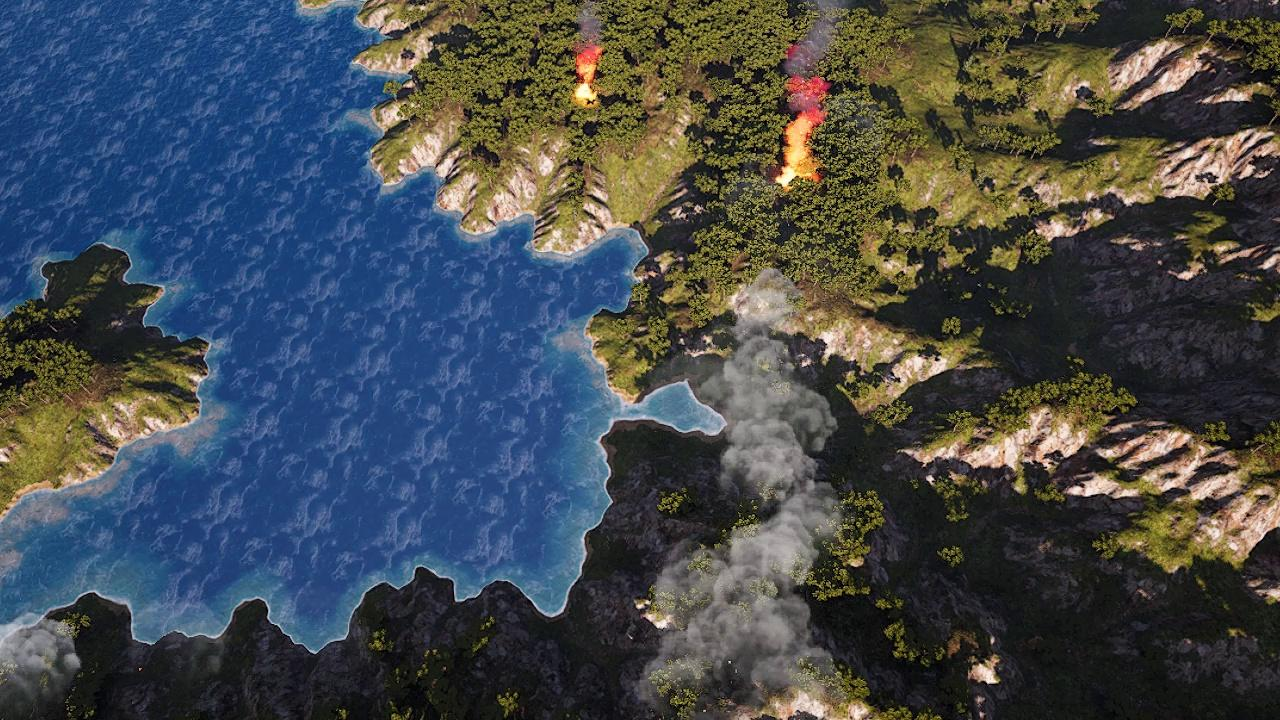fire: (775, 114, 820, 187), (573, 51, 600, 104)
smoke: (645, 261, 860, 717), (0, 497, 82, 718), (778, 0, 874, 116), (0, 614, 80, 711), (569, 0, 607, 73)
